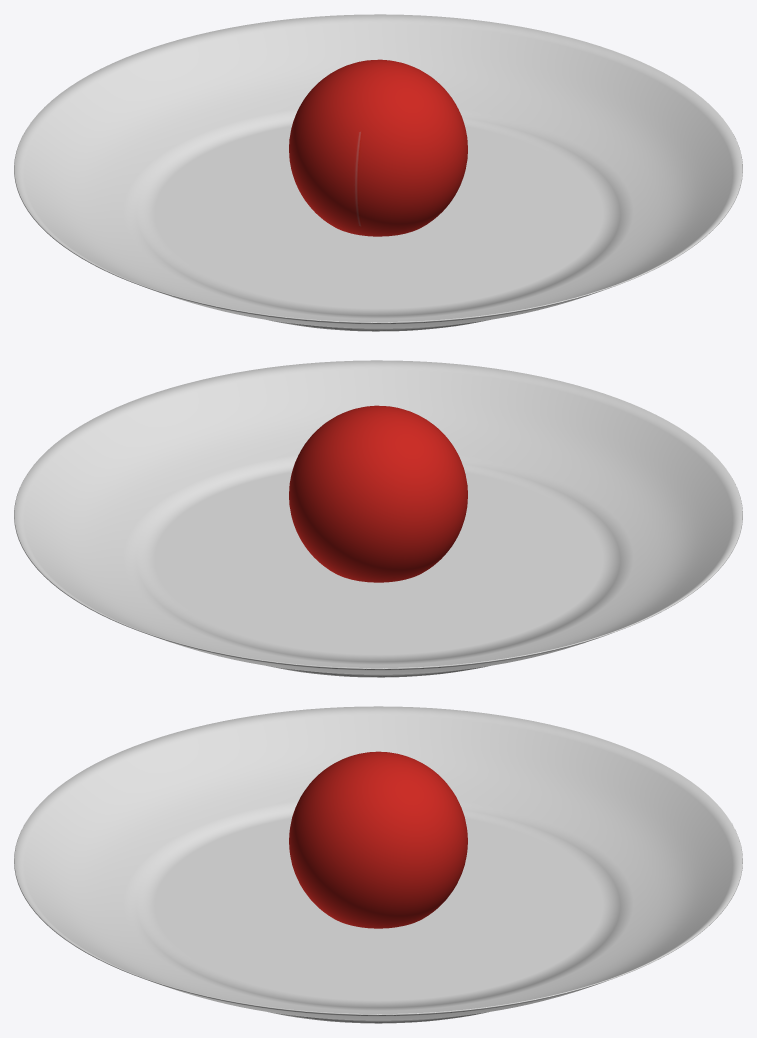
The model's file is plate.obj.
The picture shows the model from 3 angles, top to bottom: view 1: azimuth 30°, elevation 25°; view 2: azimuth 150°, elevation 25°; view 3: azimuth 270°, elevation 25°; orthographic projection.
Visible parts, largest first — view 1: Plate, Cube; view 2: Plate, Cube; view 3: Plate, Cube.
Part boxes in pixels (left/top/right/bottom): Plate: left=14, top=14, right=742, bottom=331; Cube: left=289, top=59, right=467, bottom=236; Plate: left=14, top=360, right=742, bottom=677; Cube: left=289, top=405, right=467, bottom=582; Plate: left=14, top=706, right=742, bottom=1023; Cube: left=289, top=751, right=467, bottom=928.
Size of the model in its own units: 9.45 by 2.37 by 9.45.
2 materials, 1 textured.
